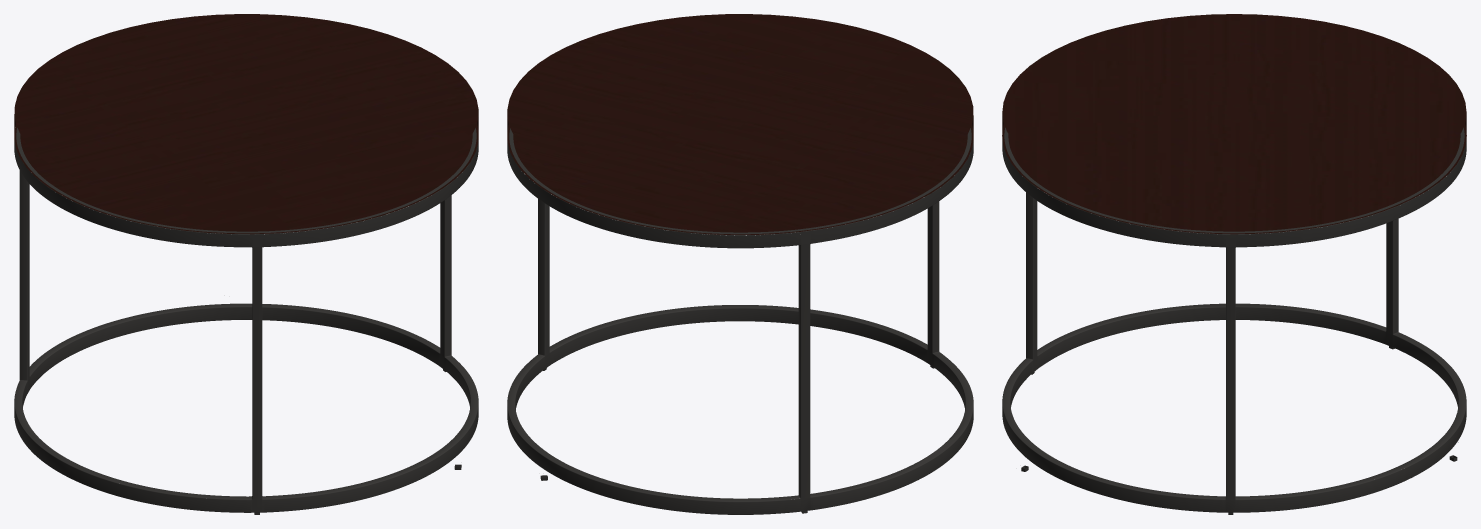
The picture shows the model from 3 angles, left to right: view 1: azimuth 30°, elevation 25°; view 2: azimuth 150°, elevation 25°; view 3: azimuth 270°, elevation 25°; orthographic projection.
Visible parts, largest first — view 1: C-skpD418.008, C-skpD418.006, C-skpD418.133, C-skpD418.140, C-skpD418.165, C-skpD418.125, C-skpD418.163, C-skpD418.118, C-skpD418.129, C-skpD418.166, C-skpD418.144, C-skpD418.130; view 2: C-skpD418.008, C-skpD418.006, C-skpD418.140, C-skpD418.134, C-skpD418.164, C-skpD418.123, C-skpD418.125, C-skpD418.163, C-skpD418.118, C-skpD418.129, C-skpD418.144, C-skpD418.142 (+2 smaller); view 3: C-skpD418.008, C-skpD418.119, C-skpD418.006, C-skpD418.117, C-skpD418.163, C-skpD418.118, C-skpD418.133, C-skpD418.129, C-skpD418.134, C-skpD418.144, C-skpD418.143, C-skpD418.164 (+3 smaller).
Part boxes in pixels (box(x1,y1,x2,y2)): C-skpD418.008: box(14, 14, 478, 209); C-skpD418.006: box(14, 123, 478, 234); C-skpD418.133: box(186, 162, 470, 512); C-skpD418.140: box(14, 141, 185, 509); C-skpD418.165: box(30, 307, 304, 388); C-skpD418.125: box(305, 200, 470, 408); C-skpD418.163: box(29, 303, 440, 376); C-skpD418.118: box(16, 128, 476, 234); C-skpD418.129: box(262, 355, 478, 499); C-skpD418.166: box(20, 171, 27, 387); C-skpD418.144: box(14, 380, 252, 499); C-skpD418.130: box(444, 195, 451, 356); C-skpD418.008: box(507, 14, 973, 210); C-skpD418.006: box(507, 124, 973, 234); C-skpD418.140: box(798, 141, 973, 511); C-skpD418.134: box(682, 206, 957, 390); C-skpD418.164: box(515, 429, 798, 514); C-skpD418.123: box(515, 162, 798, 248); C-skpD418.125: box(515, 203, 682, 409); C-skpD418.163: box(507, 354, 800, 501); C-skpD418.118: box(509, 128, 971, 235); C-skpD418.129: box(549, 305, 927, 352); C-skpD418.144: box(810, 351, 973, 497); C-skpD418.142: box(932, 201, 939, 352); C-skpD418.008: box(1002, 14, 1466, 210); C-skpD418.119: box(1070, 206, 1398, 512); C-skpD418.006: box(1002, 124, 1466, 234); C-skpD418.117: box(1076, 221, 1395, 347); C-skpD418.163: box(1235, 332, 1466, 499); C-skpD418.118: box(1004, 127, 1464, 234); C-skpD418.133: box(1002, 139, 1069, 483); C-skpD418.129: box(1002, 358, 1225, 499); C-skpD418.134: box(1010, 198, 1076, 407); C-skpD418.144: box(1037, 303, 1386, 355); C-skpD418.143: box(1026, 192, 1033, 359); C-skpD418.164: box(1398, 399, 1466, 483).
Size of the model in its own units: 0.55 by 0.4 by 0.55.
2 materials, 1 textured.
